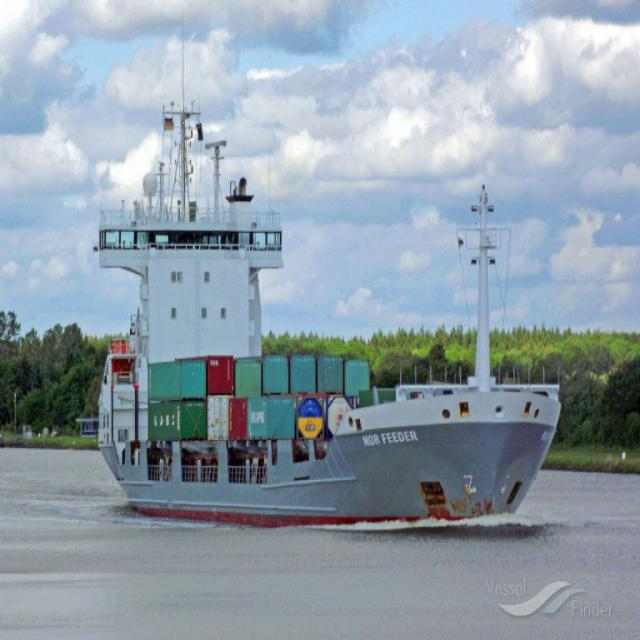Container Ship: (99, 98, 562, 526)
